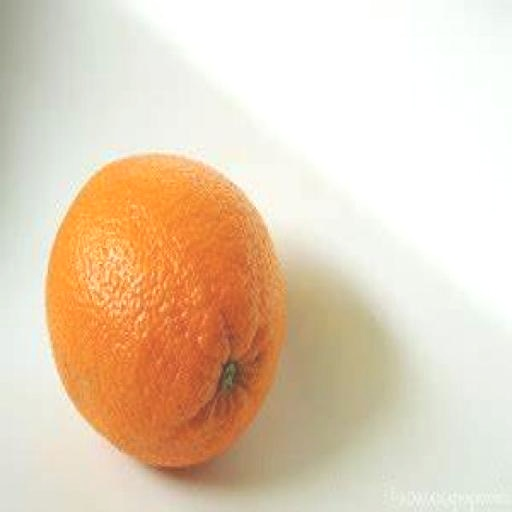fruit: (47, 155, 285, 466)
